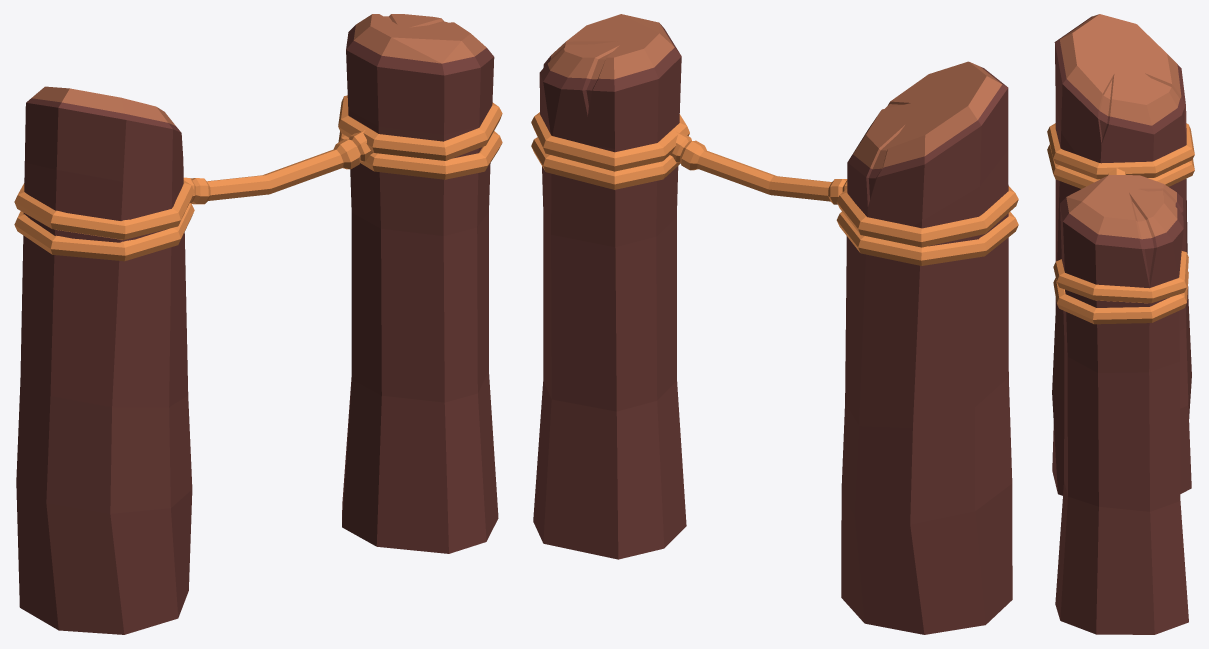
Rendered from Fence Wooden Blunt 07.fbx.
3 renders of one model, left to right at view 1: azimuth 30°, elevation 25°; view 2: azimuth 150°, elevation 25°; view 3: azimuth 270°, elevation 25°, orthographic. The views are drawn at different scales.
Visible parts, largest first — view 1: Fence Wooden Blunt 07; view 2: Fence Wooden Blunt 07; view 3: Fence Wooden Blunt 07.
Part boxes in pixels (box(x1,y1,x2,y2)): Fence Wooden Blunt 07: box(14, 14, 502, 634); Fence Wooden Blunt 07: box(531, 14, 1018, 634); Fence Wooden Blunt 07: box(1047, 14, 1194, 634).
Size of the model in its own units: 99.81 by 111 by 33.23.
